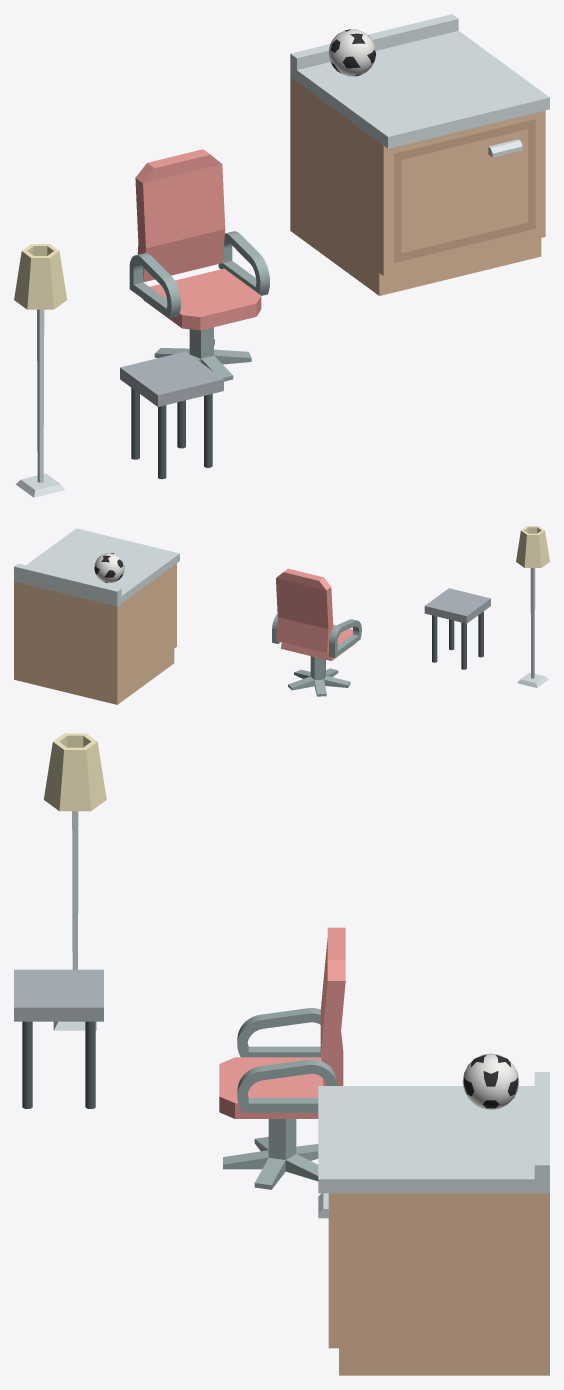
3 views of the same model, one above another, from view 1: azimuth 30°, elevation 25°; view 2: azimuth 150°, elevation 25°; view 3: azimuth 270°, elevation 25° (orthographic). The views are drawn at different scales.
Visible parts, largest first — view 1: cabinet_blue__kitchenCabinet(Clone), deskchair_black__chair, cabinet_blue__door, lamp_white__lampRoundFloor(Clone), stool_purple__stool_purple seat, deskchair_black__chairDesk(Clone), soccer_white__soccer_white, stool_purple__stool_purple leg, stool_purple__stool_purple leg.002, stool_purple__stool_purple leg.001; view 2: cabinet_blue__kitchenCabinet(Clone), deskchair_black__chair, lamp_white__lampRoundFloor(Clone), stool_purple__stool_purple seat, deskchair_black__chairDesk(Clone), soccer_white__soccer_white, stool_purple__stool_purple leg.001, stool_purple__stool_purple leg.003, stool_purple__stool_purple leg; view 3: cabinet_blue__kitchenCabinet(Clone), deskchair_black__chair, lamp_white__lampRoundFloor(Clone), stool_purple__stool_purple seat, deskchair_black__chairDesk(Clone), soccer_white__soccer_white, stool_purple__stool_purple leg.002, stool_purple__stool_purple leg.003.
Boxes of the visible parts, x1,y1,x2,y2 form: cabinet_blue__kitchenCabinet(Clone): (290,14,549,295); deskchair_black__chair: (129,149,269,330); cabinet_blue__door: (394,119,535,263); lamp_white__lampRoundFloor(Clone): (14,244,66,497); stool_purple__stool_purple seat: (120,351,223,406); deskchair_black__chairDesk(Clone): (154,327,251,381); soccer_white__soccer_white: (328,29,375,76); stool_purple__stool_purple leg: (158,405,166,479); stool_purple__stool_purple leg.002: (204,394,212,467); stool_purple__stool_purple leg.001: (131,388,139,459); cabinet_blue__kitchenCabinet(Clone): (14,528,179,704); deskchair_black__chair: (272,568,361,660); lamp_white__lampRoundFloor(Clone): (516,526,549,687); stool_purple__stool_purple seat: (424,588,490,623); deskchair_black__chairDesk(Clone): (288,656,350,696); soccer_white__soccer_white: (94,553,124,582); stool_purple__stool_purple leg.001: (461,622,466,669); stool_purple__stool_purple leg.003: (432,615,437,662); stool_purple__stool_purple leg: (478,611,483,657); cabinet_blue__kitchenCabinet(Clone): (318,1072,549,1375); deskchair_black__chair: (219,927,345,1118); lamp_white__lampRoundFloor(Clone): (43,733,106,1030); stool_purple__stool_purple seat: (14,969,103,1021); deskchair_black__chairDesk(Clone): (223,1119,318,1189); soccer_white__soccer_white: (462,1053,519,1109); stool_purple__stool_purple leg.002: (22,1021,32,1108); stool_purple__stool_purple leg.003: (85,1021,95,1108).
Bounding box in the file's own units: 3.36 × 1.2 × 2.08.
